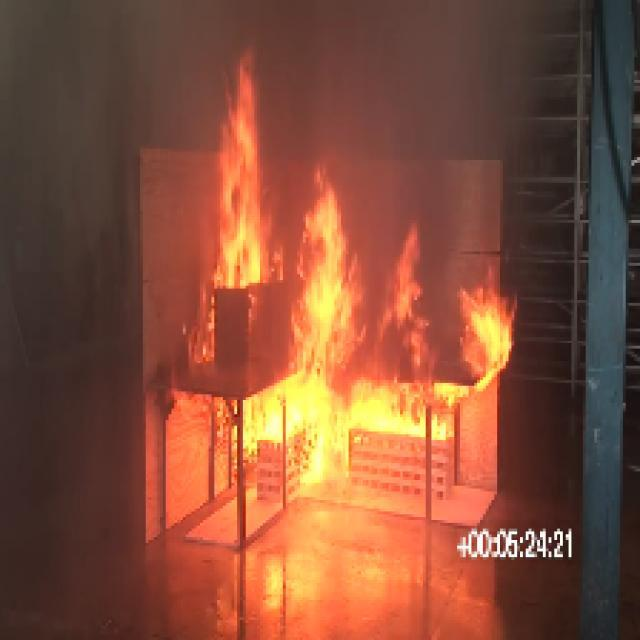Fire: (260, 386, 447, 466), (218, 70, 264, 336), (302, 180, 361, 357), (454, 290, 510, 387)
